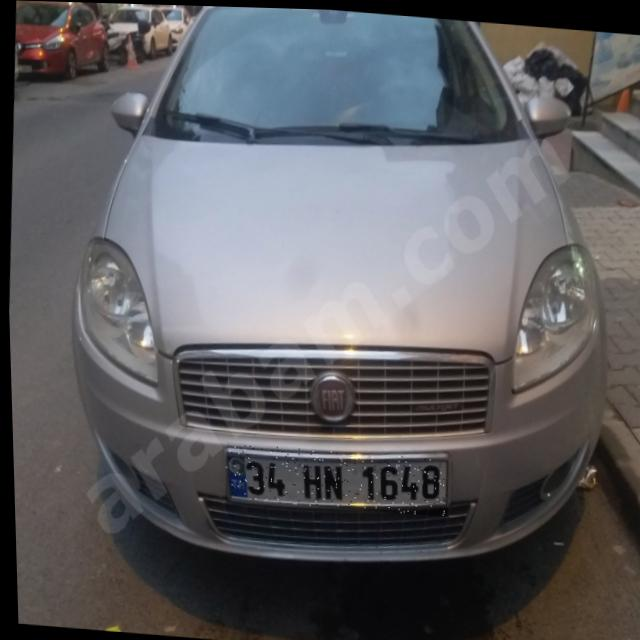license_plate: (221, 440, 447, 515)
